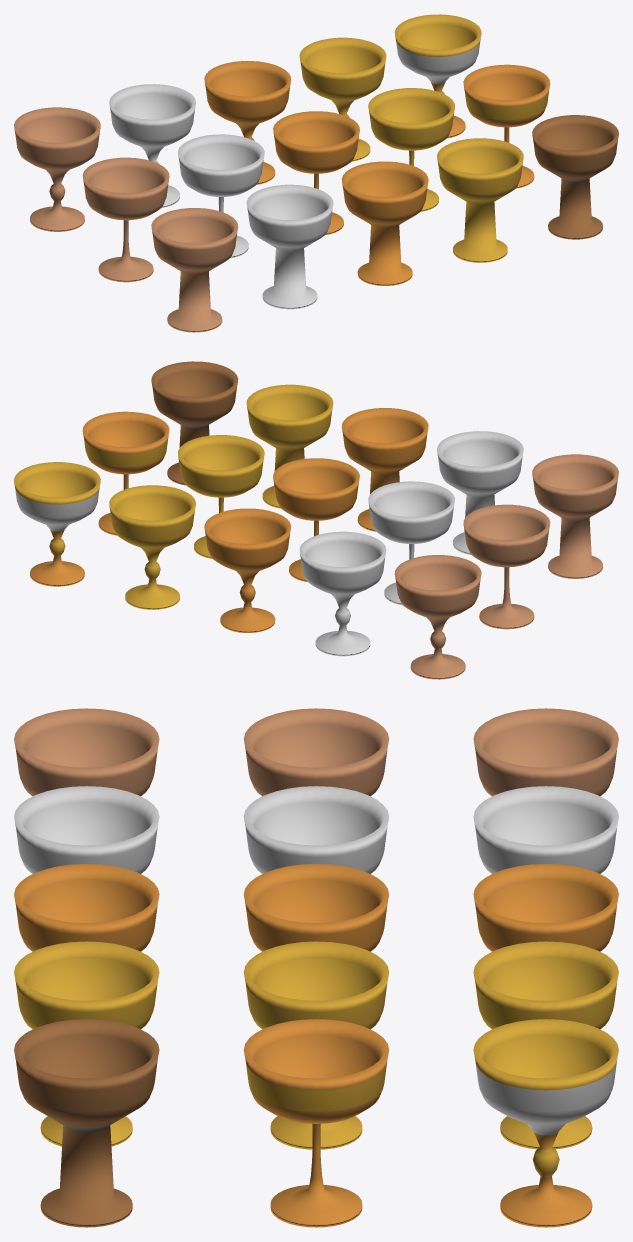
File: 001. Chalices.fbx
3 views of the same model, one above another, from view 1: azimuth 30°, elevation 25°; view 2: azimuth 150°, elevation 25°; view 3: azimuth 270°, elevation 25° (orthographic). The views are drawn at different scales.
Parts seen in each view (by area): view 1: Cylinder.013, Cylinder.004, Cylinder.005, Cylinder.002, Cylinder.003, Cylinder.012, Cylinder.009, Cylinder.001, Cylinder.010, Cylinder.006, Cylinder.011, Cylinder (+3 smaller); view 2: Cylinder.005, Cylinder.011, Cylinder.010, Cylinder.006, Cylinder.012, Cylinder.001, Cylinder.009, Cylinder.002, Cylinder.003, Cylinder.004, Cylinder.013, Cylinder (+3 smaller); view 3: Cylinder.002, Cylinder.001, Cylinder, Cylinder.014, Cylinder.010, Cylinder.003, Cylinder.009, Cylinder.012, Cylinder.005, Cylinder.006, Cylinder.004, Cylinder.008 (+3 smaller).
Boxes of the visible parts, x1,y1,x2,y2 form: Cylinder.013: (341, 161, 428, 285); Cylinder.004: (246, 184, 333, 309); Cylinder.005: (151, 208, 238, 332); Cylinder.002: (532, 115, 618, 239); Cylinder.003: (437, 138, 523, 262); Cylinder.012: (14, 107, 100, 231); Cylinder.009: (82, 157, 169, 282); Cylinder.001: (394, 14, 481, 138); Cylinder.010: (299, 37, 386, 161); Cylinder.006: (109, 84, 195, 207); Cylinder.011: (204, 61, 291, 184); Cylinder: (463, 64, 550, 188); Cylinder.005: (532, 454, 618, 578); Cylinder.011: (204, 508, 291, 632); Cylinder.010: (109, 485, 195, 609); Cylinder.006: (299, 531, 386, 656); Cylinder.012: (394, 555, 481, 679); Cylinder.001: (14, 462, 100, 586); Cylinder.009: (463, 504, 550, 629); Cylinder.002: (151, 361, 238, 485); Cylinder.003: (246, 384, 333, 508); Cylinder.004: (437, 431, 523, 554); Cylinder.013: (341, 408, 428, 531); Cylinder: (82, 411, 169, 535); Cylinder.002: (14, 1019, 159, 1227); Cylinder.001: (473, 1019, 618, 1227); Cylinder: (243, 1019, 389, 1227); Cylinder.014: (243, 941, 389, 1149); Cylinder.010: (473, 941, 618, 1149); Cylinder.003: (14, 941, 159, 1146); Cylinder.009: (243, 708, 389, 796); Cylinder.012: (473, 708, 618, 796); Cylinder.005: (14, 708, 159, 796); Cylinder.006: (473, 786, 618, 873); Cylinder.004: (14, 786, 159, 873); Cylinder.008: (243, 786, 389, 873).
Size of the model in its own units: 1917 by 380 by 1317.
